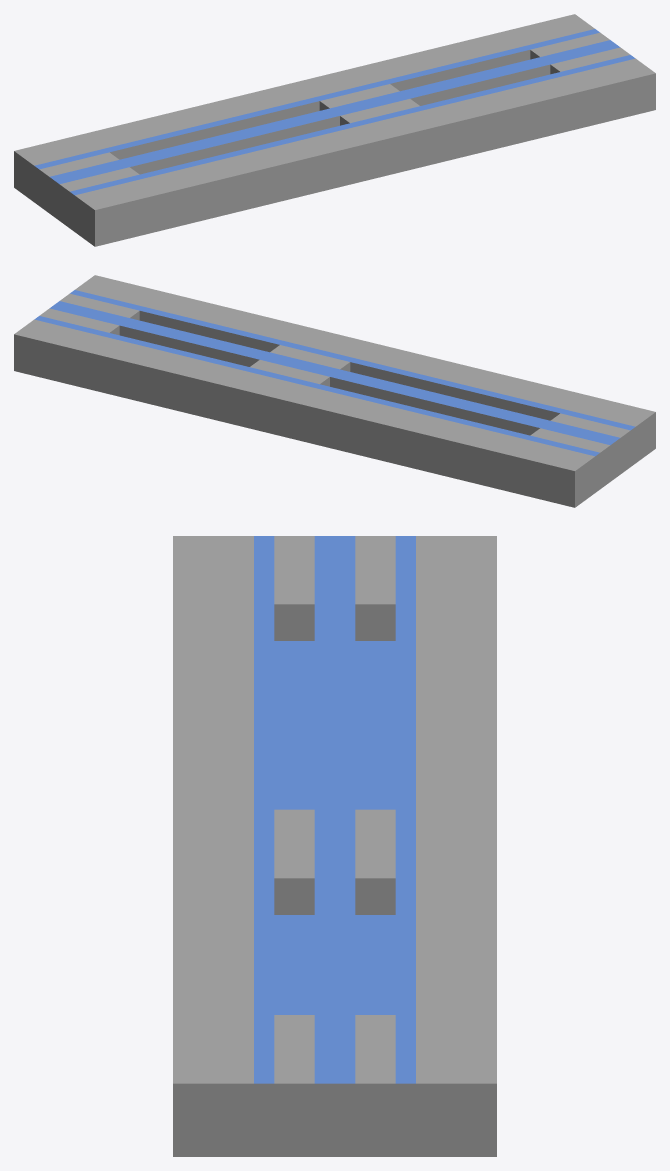
Rendered from Floor_06.fbx.
The picture shows the model from 3 angles, top to bottom: view 1: azimuth 30°, elevation 25°; view 2: azimuth 150°, elevation 25°; view 3: azimuth 270°, elevation 25°; orthographic projection. The views are drawn at different scales.
Parts seen in each view (by area): view 1: Cube.002; view 2: Cube.002; view 3: Cube.002.
Boxes of the visible parts, left/top/right/bottom form: Cube.002: left=14, top=14, right=655, bottom=246; Cube.002: left=14, top=275, right=655, bottom=507; Cube.002: left=173, top=536, right=496, bottom=1156.
Bounding box in the file's own units: 400 × 25 × 100.
